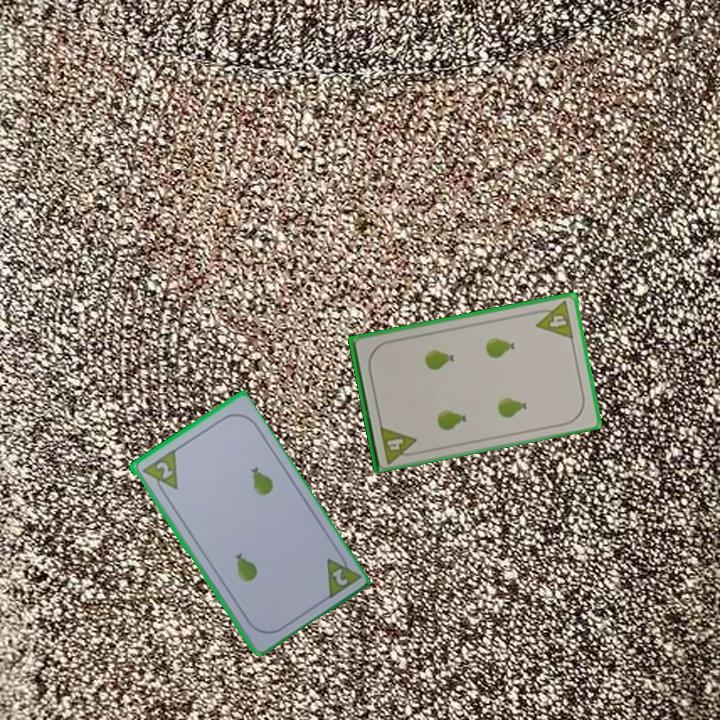2p: (152, 458, 175, 482), (328, 565, 351, 589)
4p: (530, 297, 576, 342), (376, 421, 421, 466)
